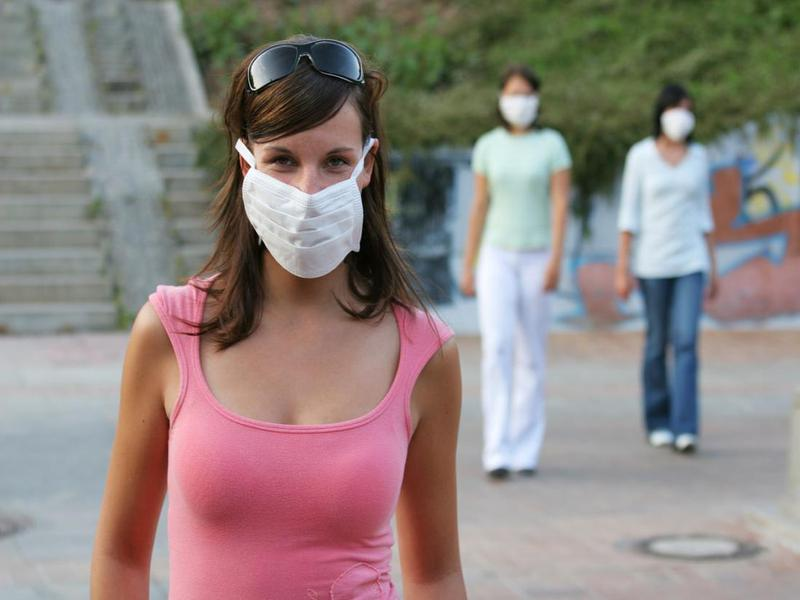with_mask: (233, 84, 371, 284), (498, 68, 543, 134), (654, 86, 700, 147)
